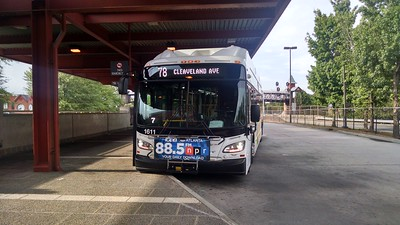bus: (132, 46, 264, 176)
